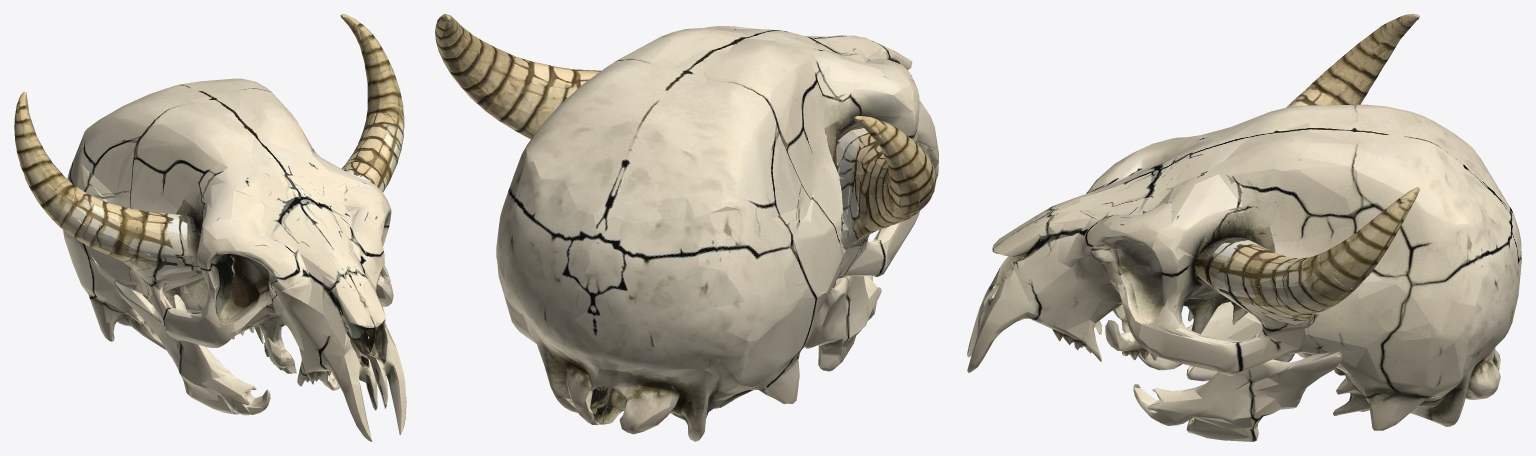
File: baigu.glb
3 views of the same model, side by side, from view 1: azimuth 30°, elevation 25°; view 2: azimuth 150°, elevation 25°; view 3: azimuth 270°, elevation 25° (orthographic). The views are drawn at different scales.
Size of the model in its own units: 1.62 by 1.17 by 1.9.
Materials: 1 (1 with a texture image).
